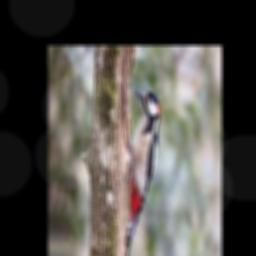Woodpecker: (125, 87, 160, 256)
